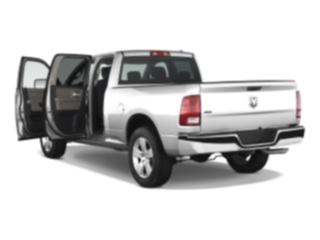ram: (246, 94, 261, 110)
